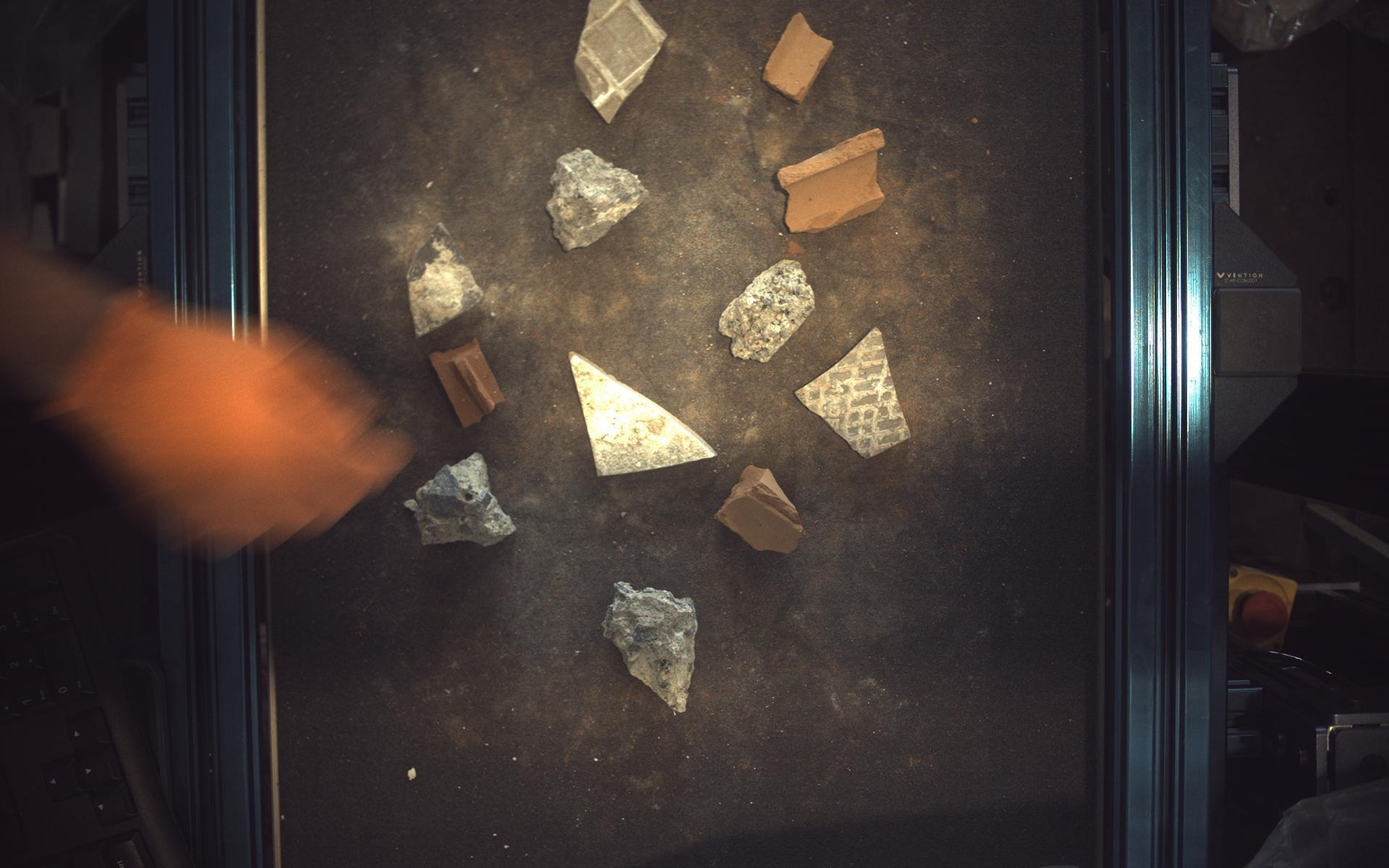brick: (780, 127, 887, 231), (716, 465, 805, 554), (430, 338, 505, 427), (764, 11, 835, 101)
concrete: (603, 583, 699, 714), (404, 453, 516, 547), (547, 147, 649, 250), (720, 259, 816, 362)
tile: (570, 352, 717, 476), (797, 328, 912, 458), (574, 1, 668, 121), (407, 221, 484, 336)
